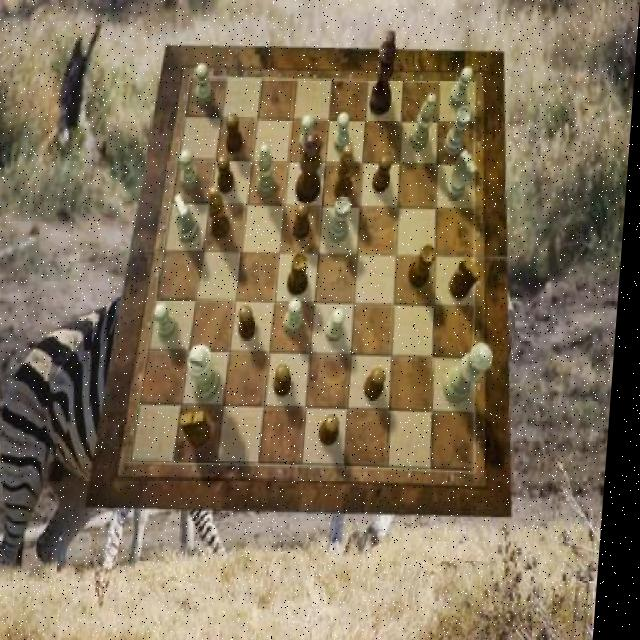bishop: (210, 186, 237, 240), (335, 144, 358, 200)
black-bishop: (371, 31, 400, 116)
black-king: (453, 256, 485, 300), (184, 412, 217, 448)
black-knight: (226, 114, 246, 155), (374, 155, 395, 193), (217, 155, 237, 194), (295, 203, 314, 241), (369, 368, 391, 400), (242, 305, 262, 339), (278, 365, 299, 397), (323, 416, 345, 446)
black-pawn: (297, 134, 326, 203)
black-queen: (411, 244, 440, 288), (291, 252, 315, 296)
black-rook: (410, 92, 438, 150), (257, 143, 281, 198)
white-bishop: (191, 345, 227, 402)
white-king: (447, 149, 480, 200), (174, 194, 204, 243)
white-knight: (450, 68, 475, 108), (193, 63, 215, 105), (157, 304, 182, 340), (180, 151, 202, 191), (300, 115, 319, 154), (335, 112, 353, 152), (329, 309, 350, 343), (288, 299, 309, 333)
white-pawn: (446, 343, 499, 405)
white-queen: (445, 104, 474, 156), (329, 197, 353, 243)
